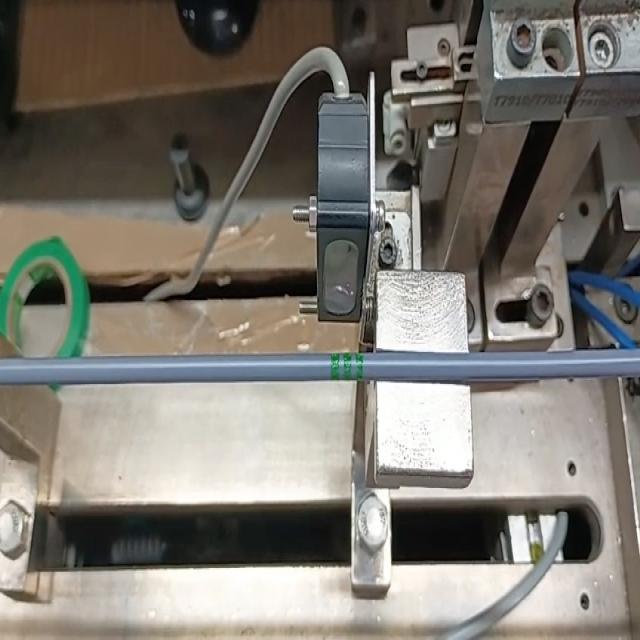green: (332, 351, 362, 381)
